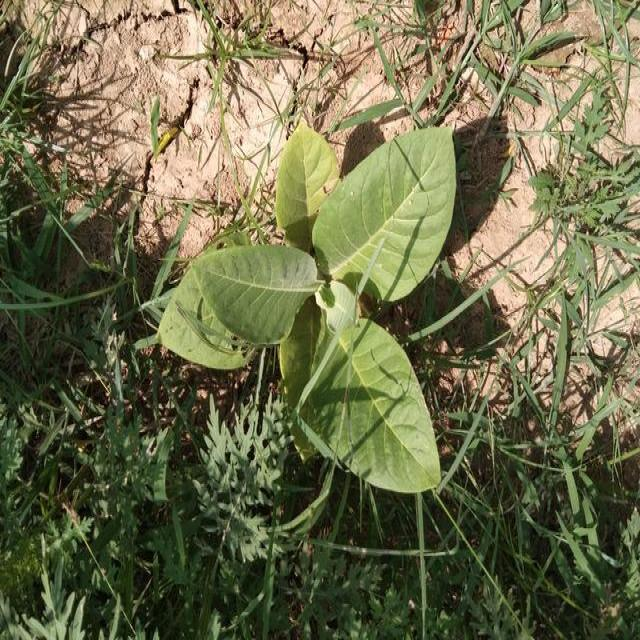crop: (172, 127, 460, 502)
